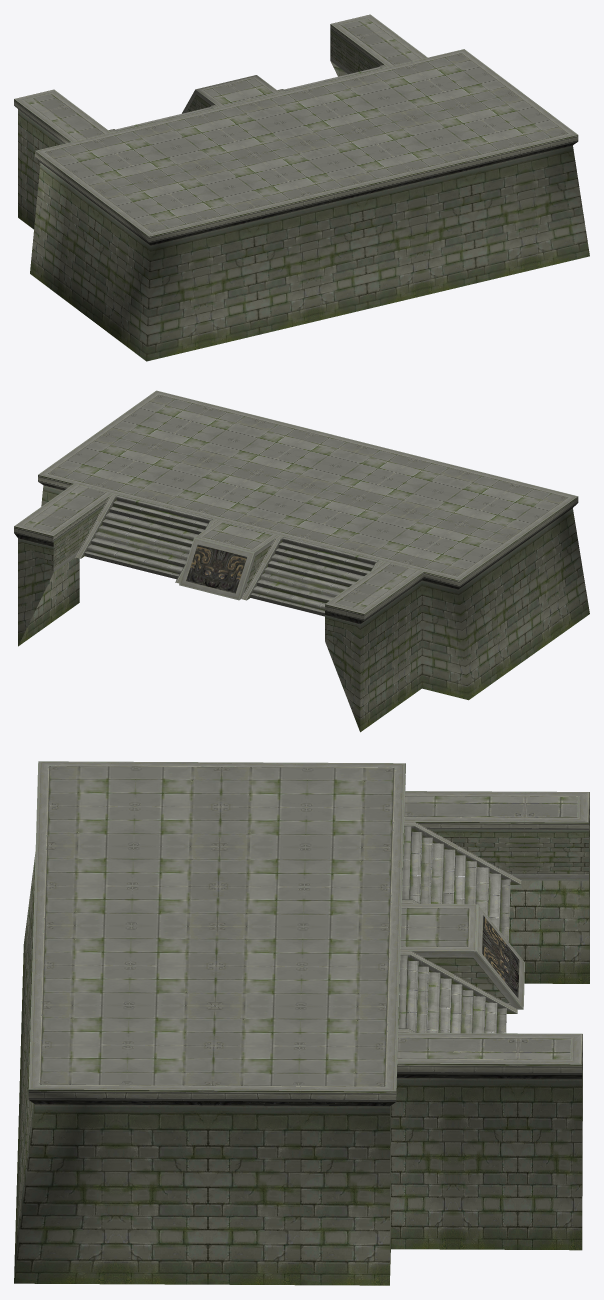
The model's file is Yland3_tzi_03 Yland3.FBX.
3 views of the same model, one above another, from view 1: azimuth 30°, elevation 25°; view 2: azimuth 150°, elevation 25°; view 3: azimuth 270°, elevation 25° (orthographic). The views are drawn at different scales.
Parts seen in each view (by area): view 1: Yland3_tzi_03 Yland3; view 2: Yland3_tzi_03 Yland3; view 3: Yland3_tzi_03 Yland3.
Part boxes in pixels (x1,y1,x2,y2): Yland3_tzi_03 Yland3: (14,14,589,361); Yland3_tzi_03 Yland3: (14,390,589,732); Yland3_tzi_03 Yland3: (14,761,589,1285).
Bounding box in the file's own units: 16.34 × 4.22 × 11.67.
